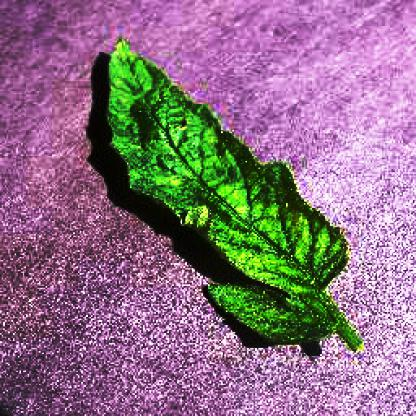Virus: (84, 36, 367, 382)
